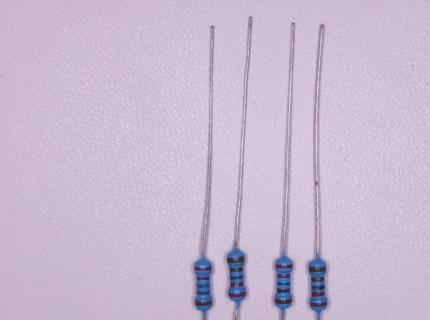Black band: (311, 285, 325, 290), (196, 283, 210, 287), (230, 275, 244, 279), (277, 282, 291, 285)
Brown band: (227, 255, 245, 263), (308, 266, 326, 272), (195, 300, 212, 305), (275, 299, 292, 304), (229, 267, 243, 272), (276, 288, 290, 293), (196, 291, 210, 295), (311, 277, 325, 281)
Red band: (310, 301, 328, 307), (228, 291, 246, 297), (194, 266, 212, 271), (230, 281, 244, 287), (275, 264, 293, 268), (311, 292, 325, 297), (277, 273, 291, 278), (196, 276, 210, 281)
